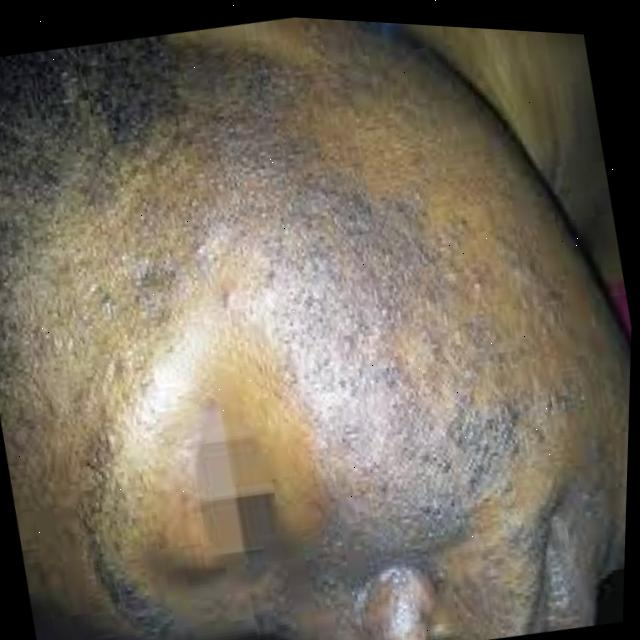Rosacea: (231, 149, 555, 594)
